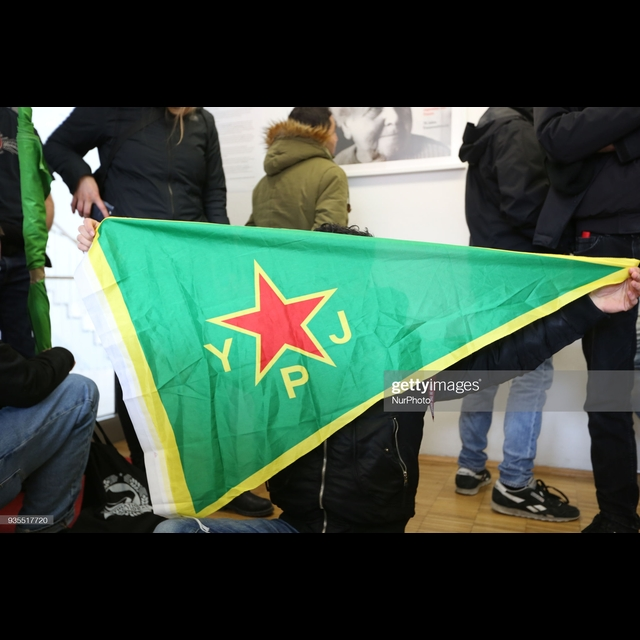YPJ: (189, 254, 355, 410)
